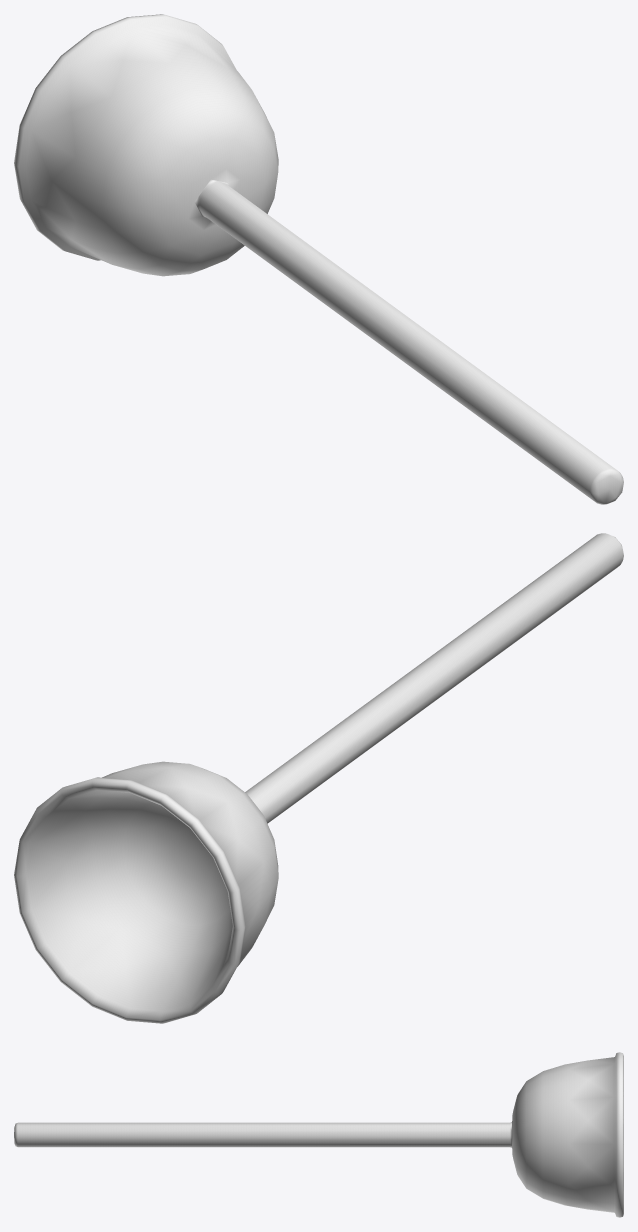
The model's file is Plunger.obj.
The picture shows the model from 3 angles, top to bottom: view 1: azimuth 30°, elevation 25°; view 2: azimuth 150°, elevation 25°; view 3: azimuth 270°, elevation 25°; orthographic projection. The views are drawn at different scales.
Visible parts, largest first — view 1: Plunger; view 2: Plunger; view 3: Plunger.
Part boxes in pixels (<box>): Plunger: <box>14,14,623,504</box>; Plunger: <box>14,533,623,1023</box>; Plunger: <box>14,1052,623,1217</box>.
Size of the model in its own units: 0.146 by 0.1458 by 0.5342.
Materials: 1 (1 with a texture image).
